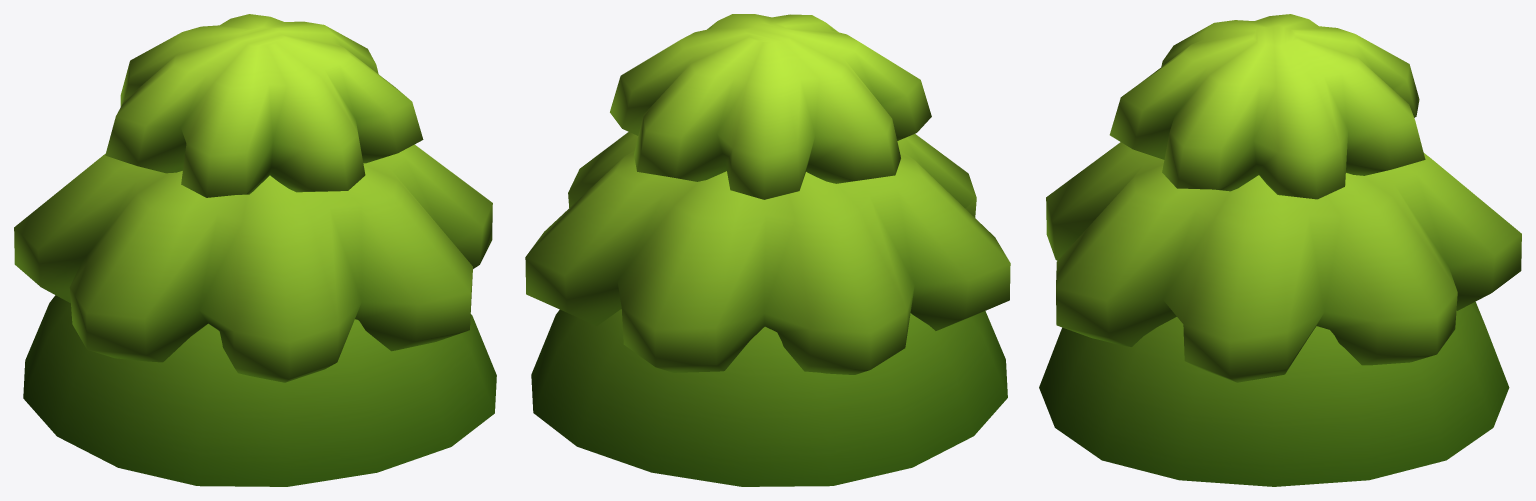
Rendered from grass1.fbx.
The picture shows the model from 3 angles, left to right: view 1: azimuth 30°, elevation 25°; view 2: azimuth 150°, elevation 25°; view 3: azimuth 270°, elevation 25°; orthographic projection.
Parts seen in each view (by area): view 1: Object_44; view 2: Object_44; view 3: Object_44.
Boxes of the visible parts, box(x1,y1,x2,y2) form: Object_44: box(14, 14, 496, 486); Object_44: box(525, 14, 1010, 486); Object_44: box(1039, 14, 1521, 486).
Bounding box in the file's own units: 44.9 × 36.06 × 44.89.
1 material, 1 textured.
